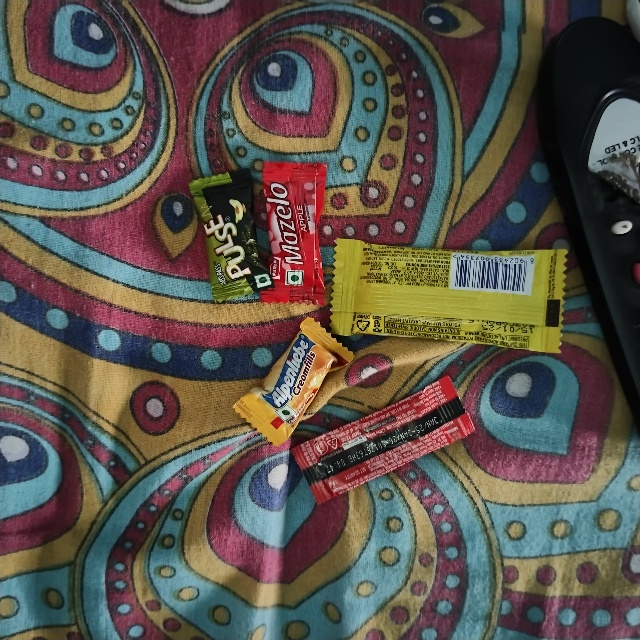Alpenlibe Creamfills: (221, 406, 353, 475)
Mazelo: (258, 155, 323, 309)
Nescafe Coffee: (282, 443, 472, 512)
Orbit: (334, 228, 573, 341)
Pulse: (186, 181, 252, 301)
